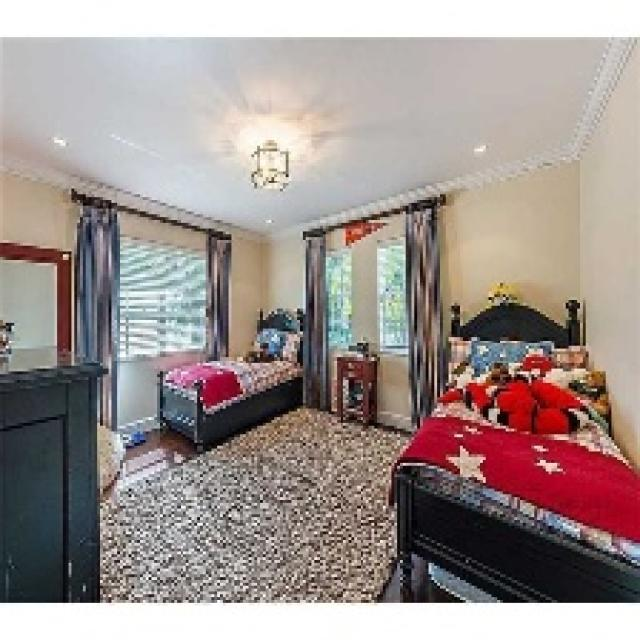Bed: (386, 294, 637, 603)
